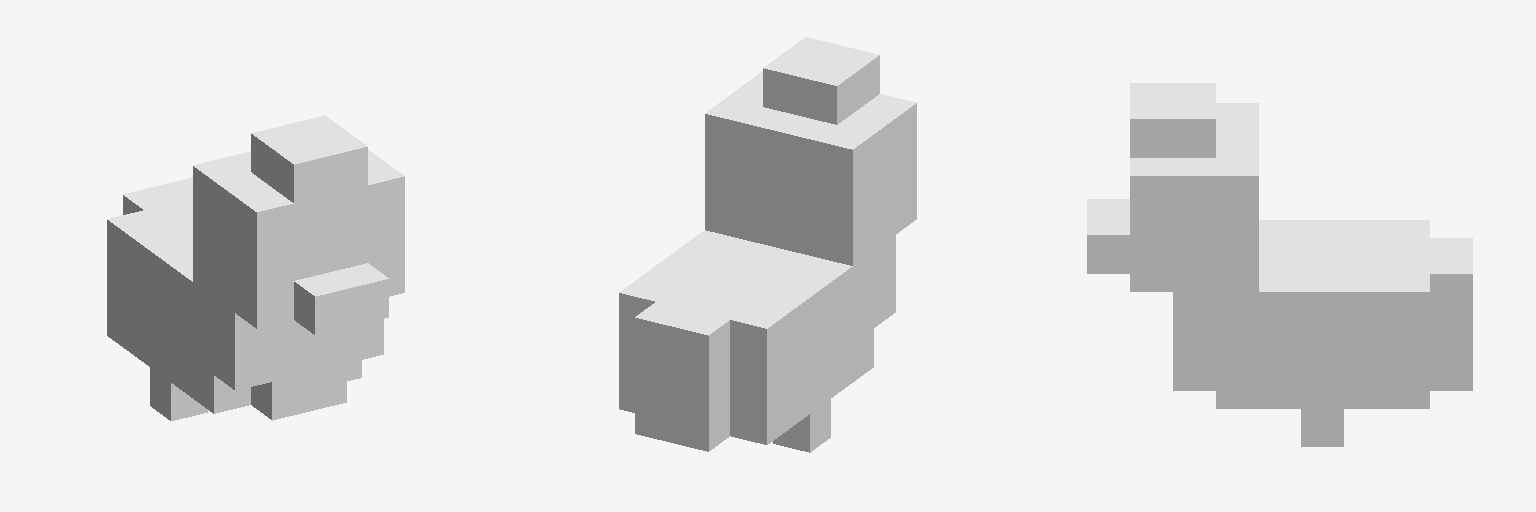
File: Chicken.obj
3 views of the same model, side by side, from view 1: azimuth 30°, elevation 25°; view 2: azimuth 150°, elevation 25°; view 3: azimuth 270°, elevation 25° (orthographic).
Parts seen in each view (by area): view 1: object 1; view 2: object 1; view 3: object 1.
Part boxes in pixels (left/top/right/bottom): object 1: left=107, top=115, right=404, bottom=420; object 1: left=619, top=37, right=916, bottom=452; object 1: left=1087, top=83, right=1472, bottom=446.
Bounding box in the file's own units: 0.4 × 0.8 × 0.9.